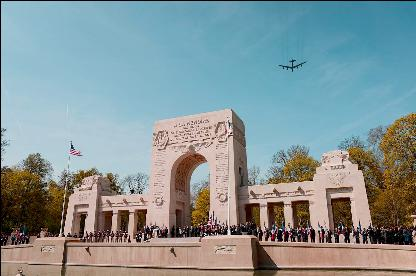B2: (277, 57, 305, 71)
